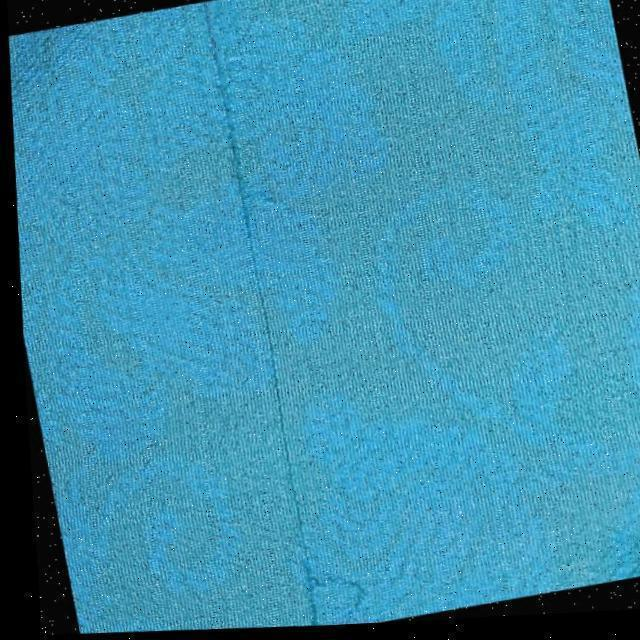pulled_or_thick_thread: (198, 2, 317, 628)
